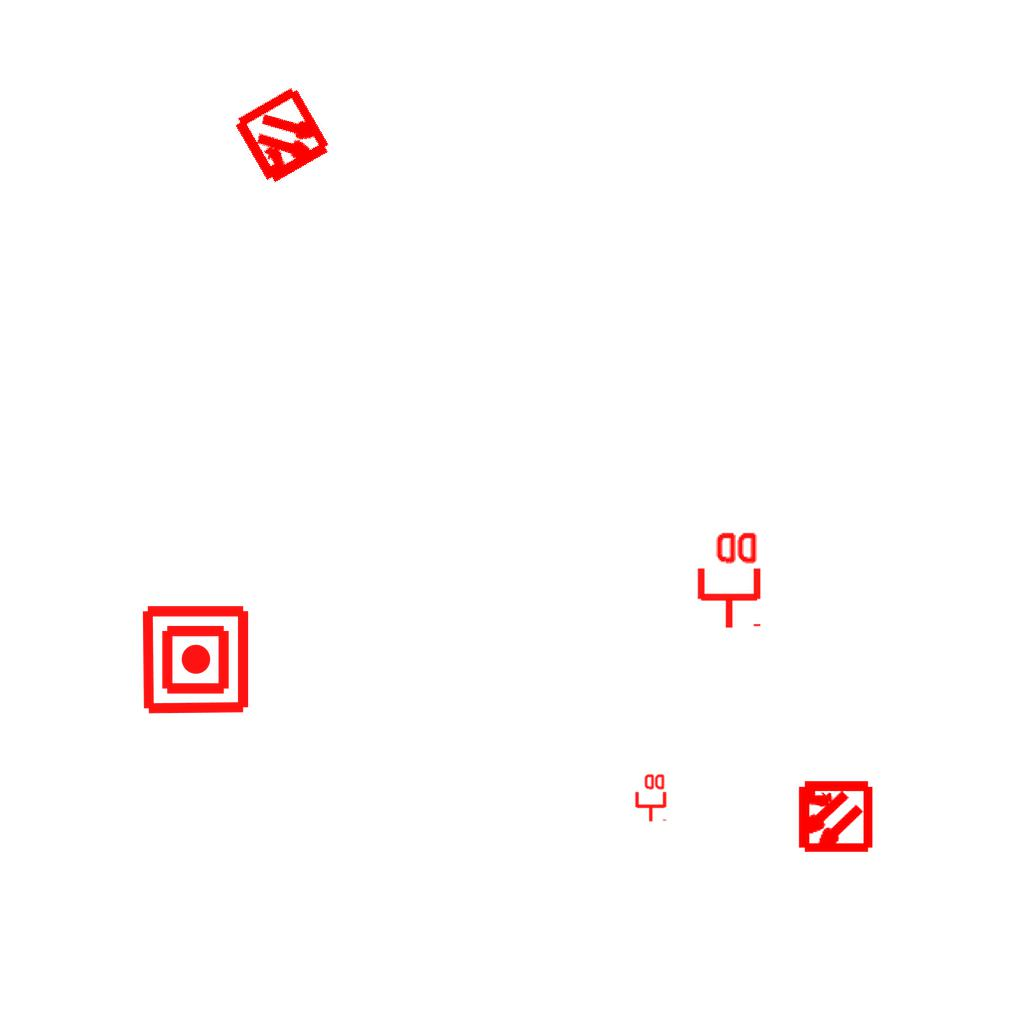Datenanschluss_zweifach: (693, 528, 762, 631), (633, 772, 667, 823)
NAM-Nichtautomatischer_Melder: (139, 603, 252, 716)
OT_Multisensormelder_(Kombination_RMO_WMD): (206, 60, 361, 215), (777, 760, 890, 873)
